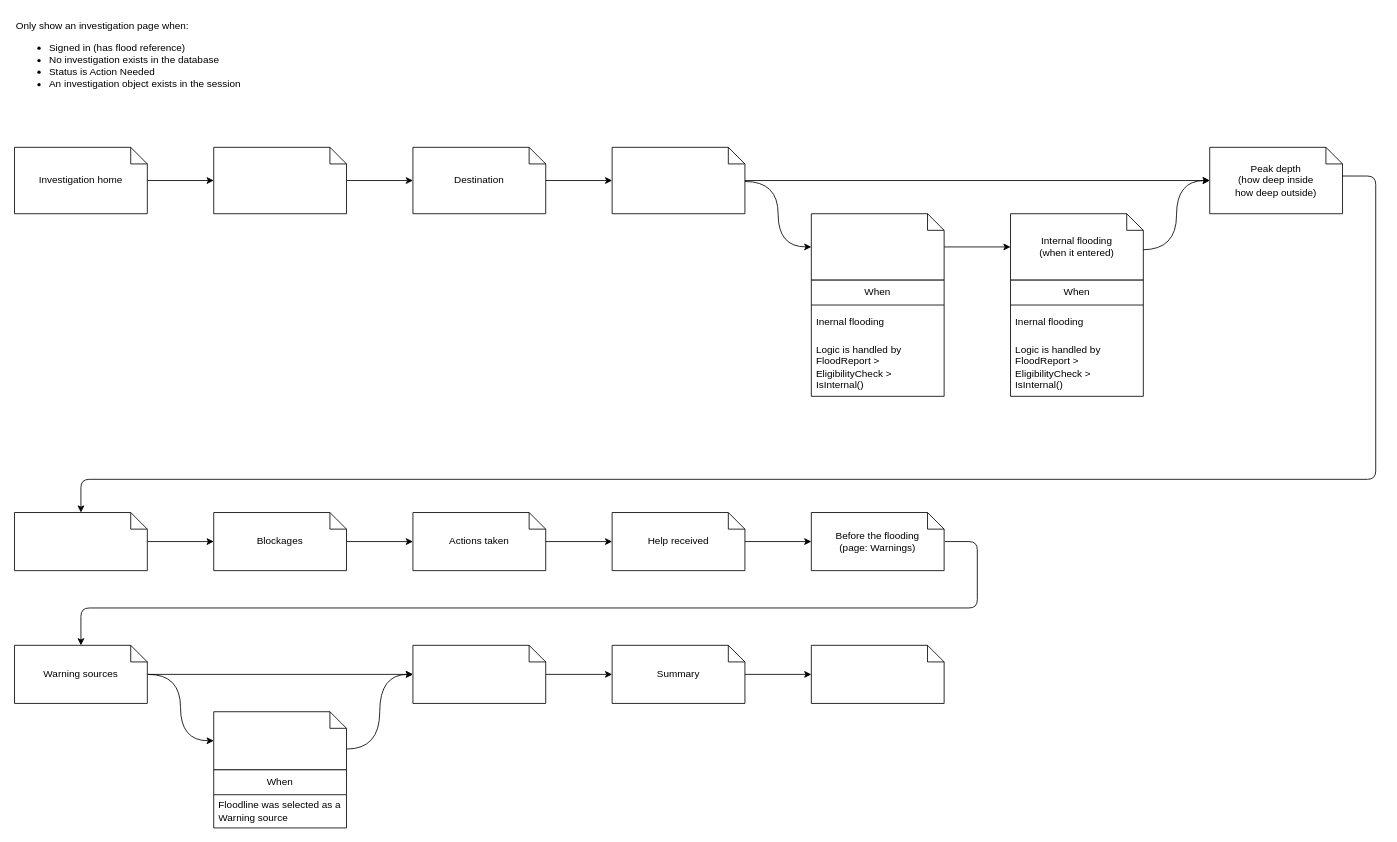
This 1397x842 diagram has some shape labels left out. The shapes that lost their labels are listed below. From the top down, each one's centre as x and y in pixels, then its label:
(280,180): Flood water details (Page: speed) (begin, speed, appearance)
(678,180): Damage to vehicles
(877,246): Water entry (how it entered)
(80,541): Impact on the community
(479,673): Flood history
(877,673): Comfirmation
(280,740): Floodline warning
